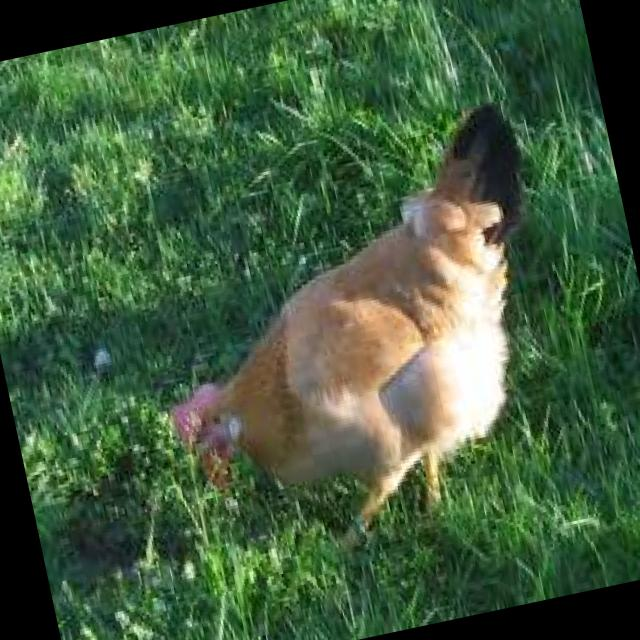chicken: (117, 95, 594, 581)
